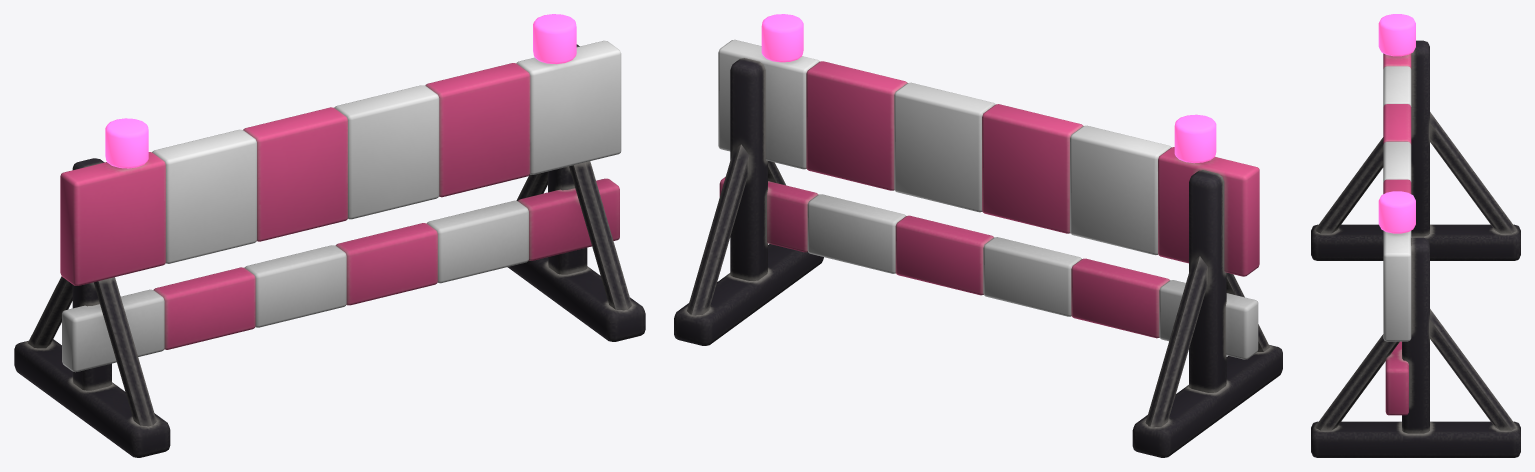
Rendered from rc_barrier_low.glb.
The picture shows the model from 3 angles, left to right: view 1: azimuth 30°, elevation 25°; view 2: azimuth 150°, elevation 25°; view 3: azimuth 270°, elevation 25°; orthographic projection. The views are drawn at different scales.
Visible parts, largest first — view 1: rc_barrier_low; view 2: rc_barrier_low; view 3: rc_barrier_low.
Boxes of the visible parts, x1=… form: rc_barrier_low: x1=14, y1=14, x2=645, y2=457; rc_barrier_low: x1=674, y1=14, x2=1282, y2=457; rc_barrier_low: x1=1311, y1=14, x2=1520, y2=457.
Size of the model in its own units: 2.3 by 1.16 by 0.9.
Materials: 4 (4 with a texture image).
